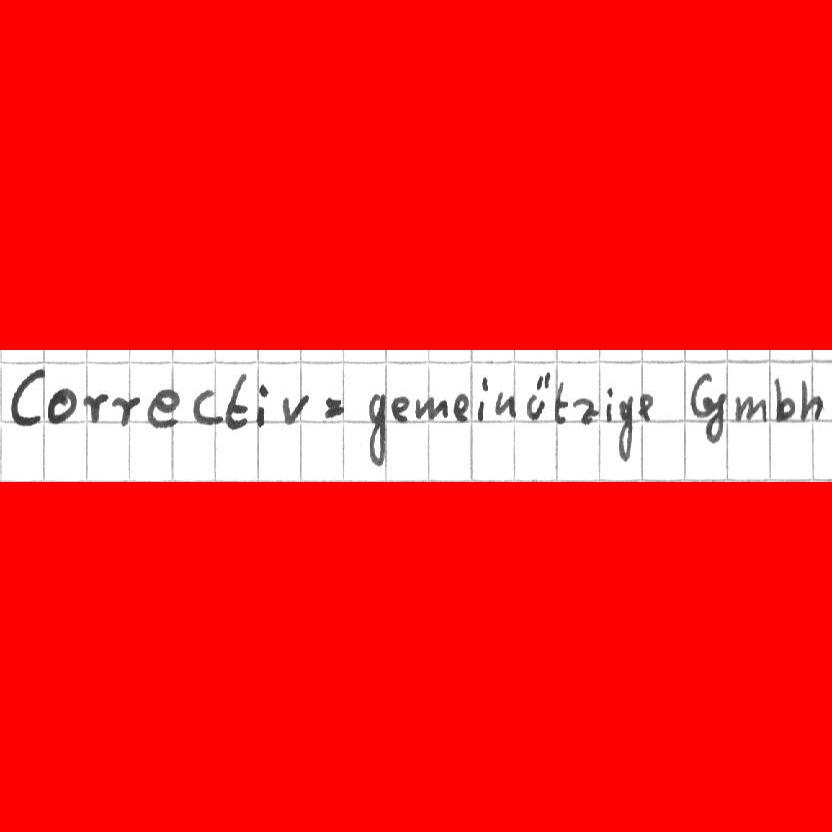Char: (687, 371, 728, 444), (6, 364, 47, 428), (365, 392, 388, 466), (224, 371, 252, 429), (145, 386, 181, 429), (525, 369, 552, 426), (614, 392, 635, 461), (43, 383, 78, 424), (798, 376, 824, 426), (192, 386, 224, 426), (733, 392, 770, 424), (81, 390, 111, 428), (413, 395, 453, 423), (110, 391, 140, 428), (772, 376, 795, 423), (281, 391, 310, 427), (570, 395, 600, 426), (320, 391, 350, 421), (254, 380, 271, 428), (389, 394, 413, 425), (494, 389, 518, 419), (553, 379, 569, 423), (635, 389, 654, 424), (450, 392, 470, 424), (477, 375, 489, 424), (603, 384, 614, 425)
